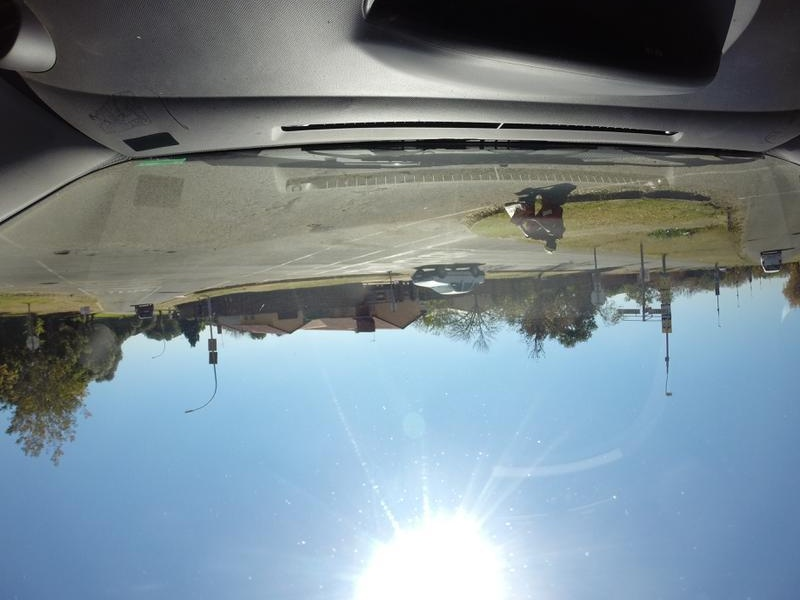pothole: (50, 240, 71, 259), (34, 280, 61, 290)
